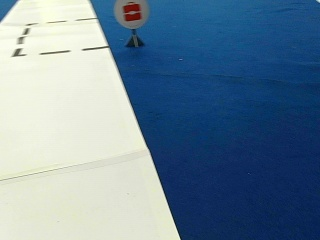company: (114, 0, 149, 28)
